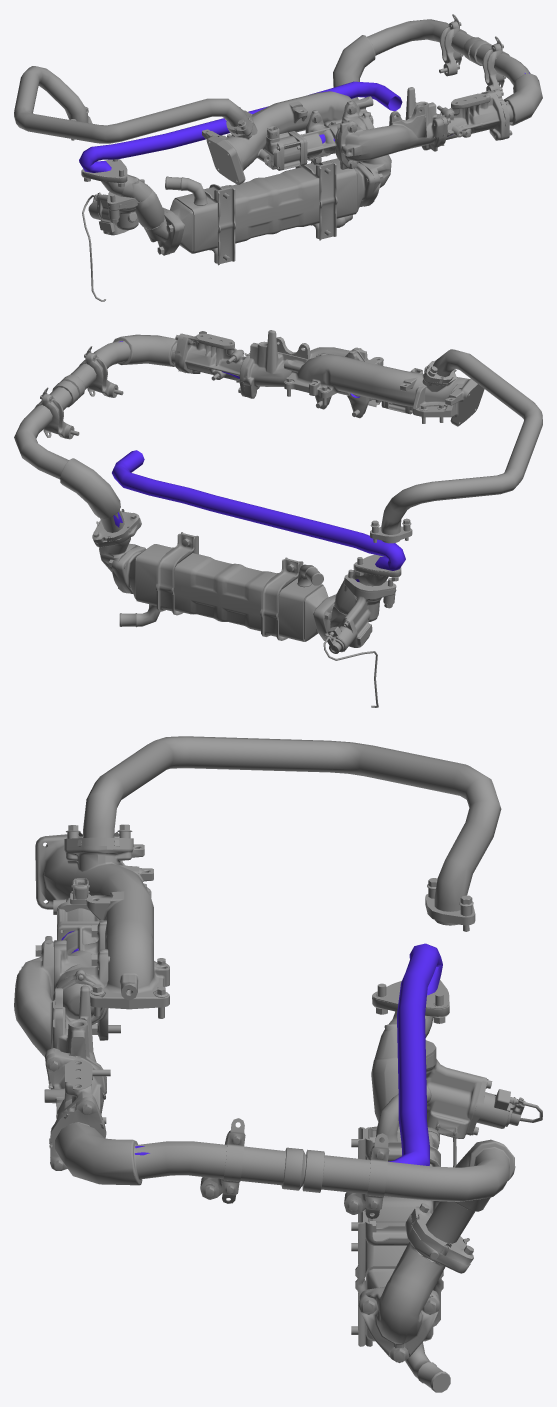
Rendered from Exxotest_Export_EGRVanne_VueCOupe.FBX.
3 views of the same model, one above another, from view 1: azimuth 30°, elevation 25°; view 2: azimuth 150°, elevation 25°; view 3: azimuth 270°, elevation 25° (orthographic). The views are drawn at different scales.
Visible parts, largest first — view 1: 21881694_asm, 23011938_EGR, Vanne EGR interieur; view 2: 21881694_asm, 23011938_EGR, Vanne EGR interieur; view 3: 21881694_asm, 23011938_EGR, Vanne EGR interieur.
Boxes of the visible parts, x1,y1,x2,y2 form: 21881694_asm: (81, 14, 542, 265); 23011938_EGR: (14, 66, 373, 301); Vanne EGR interieur: (79, 73, 529, 172); 21881694_asm: (14, 330, 422, 641); 23011938_EGR: (284, 349, 542, 707); Vanne EGR interieur: (112, 341, 405, 582); 21881694_asm: (14, 878, 515, 1392); 23011938_EGR: (35, 736, 542, 1167); Vanne EGR interieur: (61, 930, 442, 1165).
Size of the model in its own units: 2692 by 1518 by 1592.
